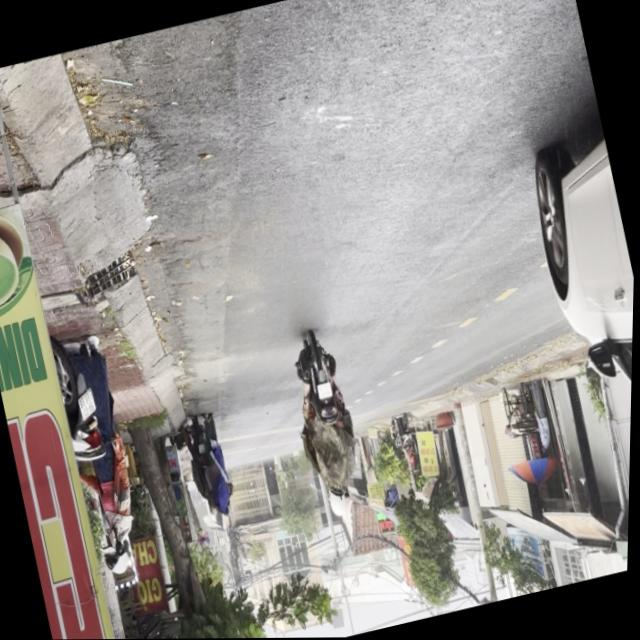helmet: (328, 486, 350, 519), (337, 486, 356, 516)
licenseplate: (281, 326, 377, 524)
nohelmet: (317, 382, 334, 400)
